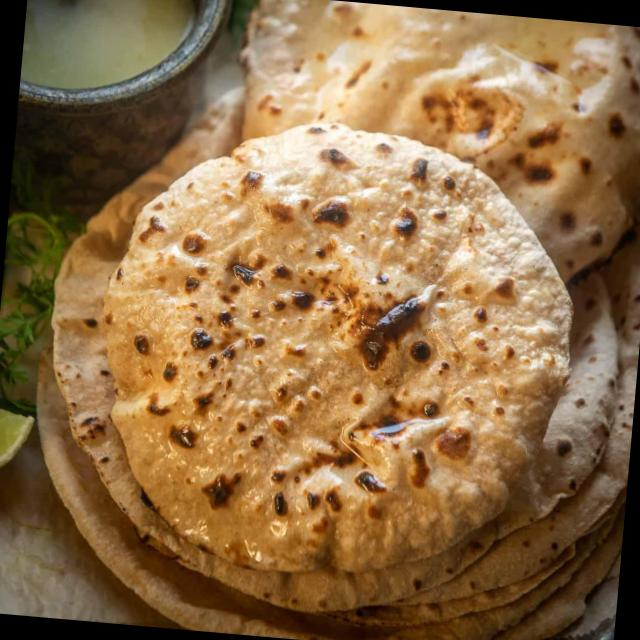roti: (34, 89, 640, 640), (107, 121, 574, 575), (237, 4, 640, 283)
